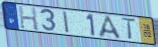1: (85, 13, 96, 38)
3: (39, 8, 58, 33)
A: (98, 15, 124, 41)
H: (17, 5, 40, 32)
I: (62, 10, 71, 35)
T: (120, 17, 138, 41)
